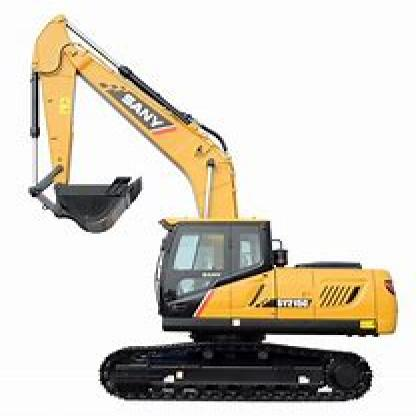excavator: (14, 11, 398, 403)
